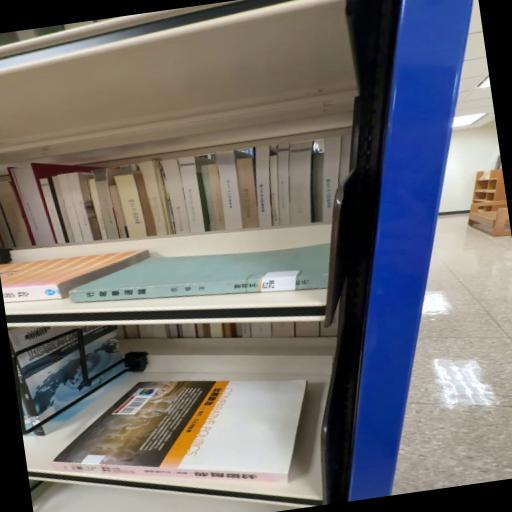flat: (54, 380, 308, 483), (71, 244, 330, 303)
